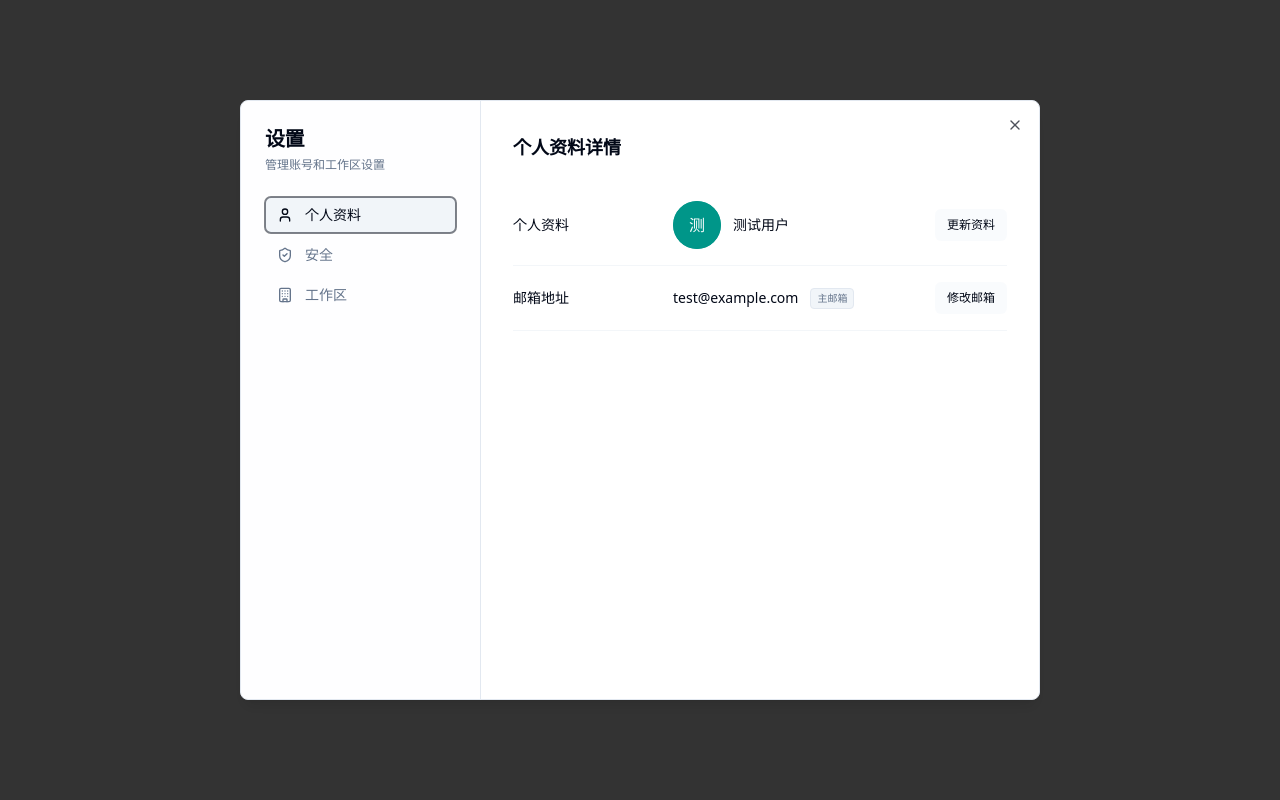
Test: SettingsModal › 安全 Tab › 点击设置密码应该显示密码修改表单
Click the button "安全". click: (360, 255)
box: [265,237,456,273]
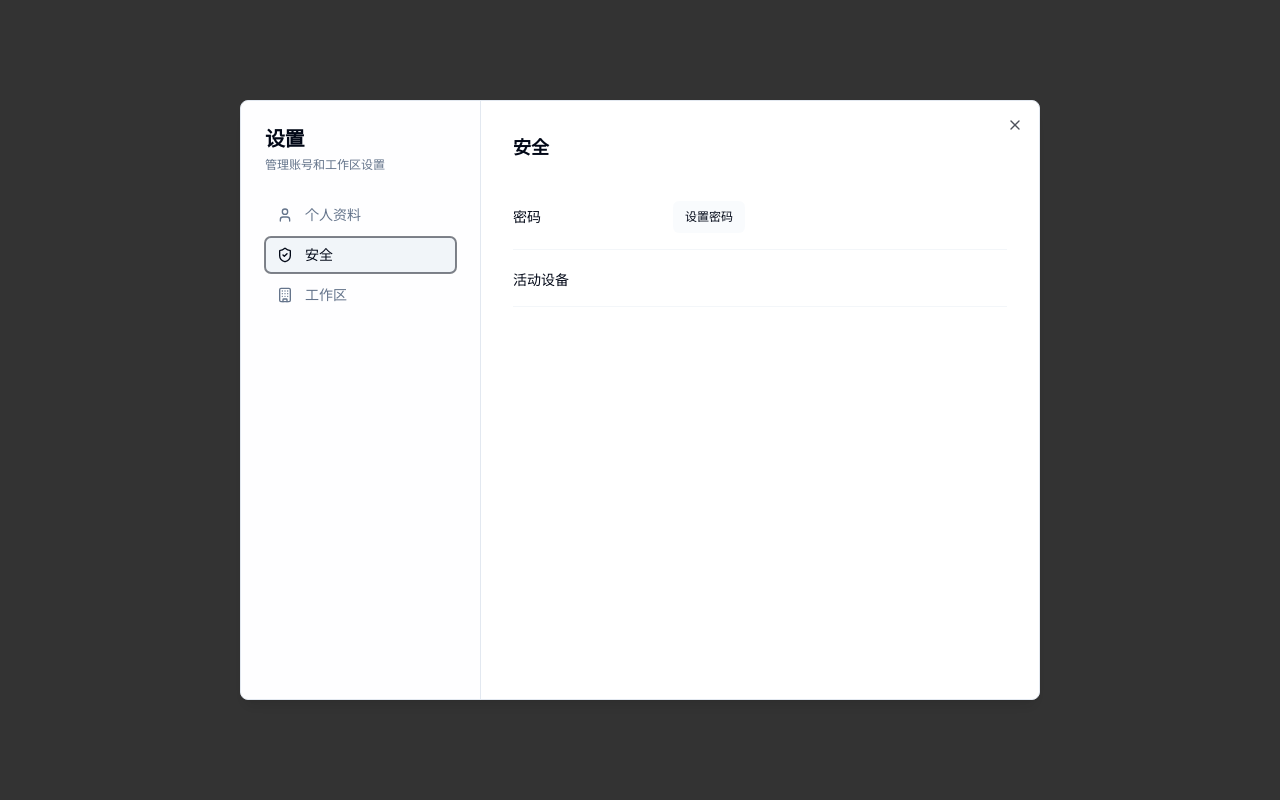
expect the button "设置密码" is shown: met
Click the button "设置密码". click: (709, 217)
box: [673,201,745,233]
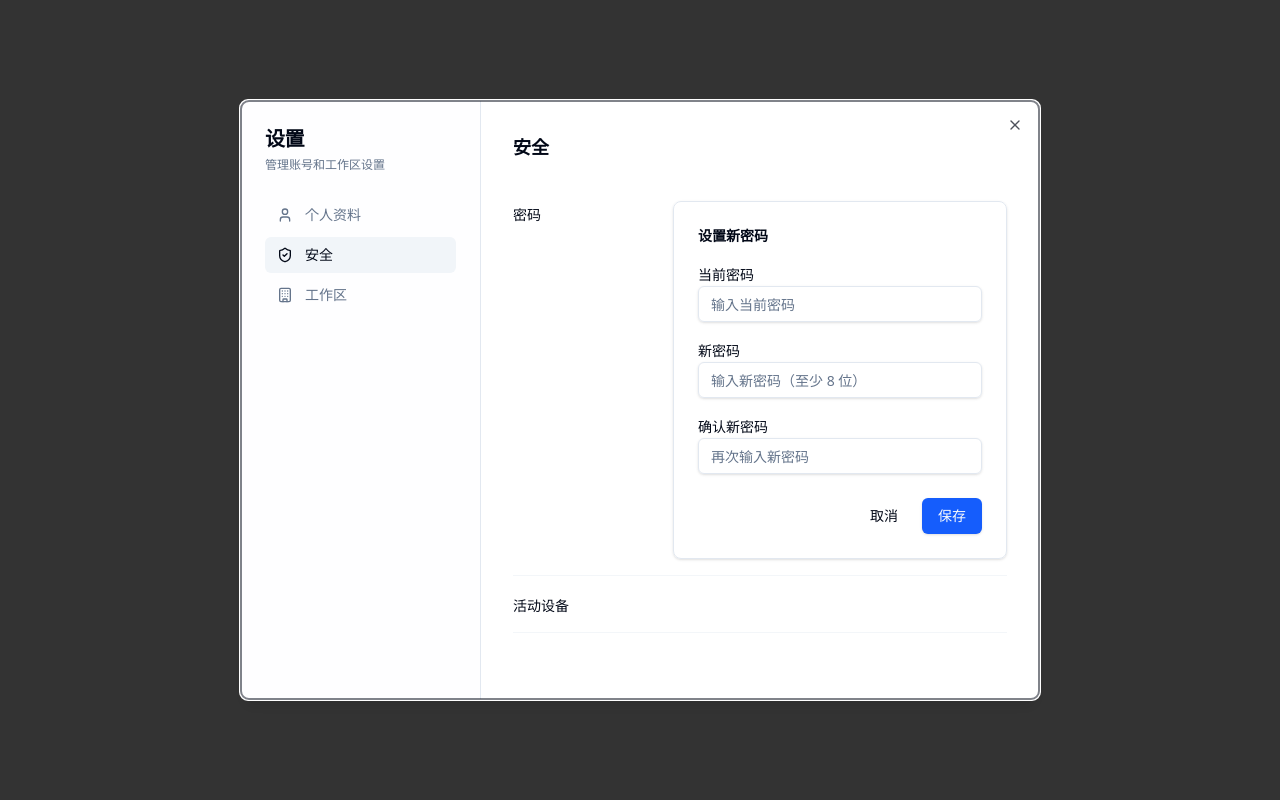
expect the heading "设置新密码" is shown: met, box [698,226,768,245]
expect the password field with placeholder "输入当前密码" is shown: met, box [698,286,982,322]
expect the password field with placeholder "输入新密码（至少 8 位）" is shown: met, box [698,362,982,398]
